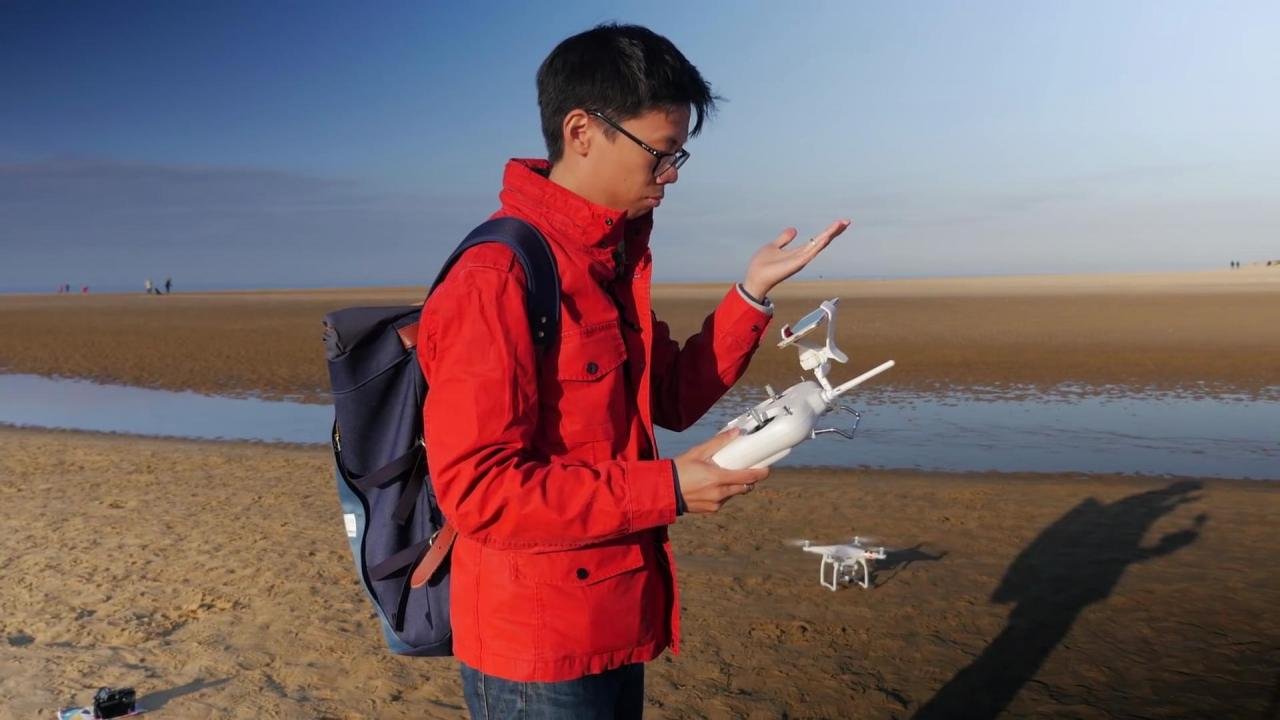Drone: (772, 526, 905, 602)
